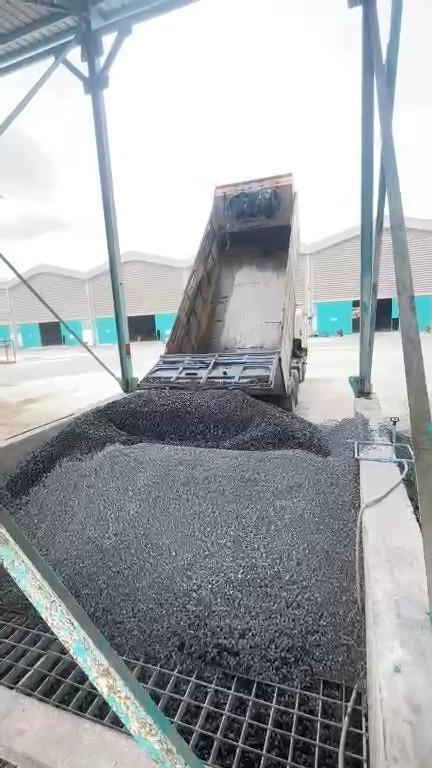gravel: (10, 421, 362, 683), (1, 390, 368, 498), (1, 566, 44, 624), (406, 463, 420, 521), (397, 422, 412, 471)
sand: (1, 396, 38, 436)
